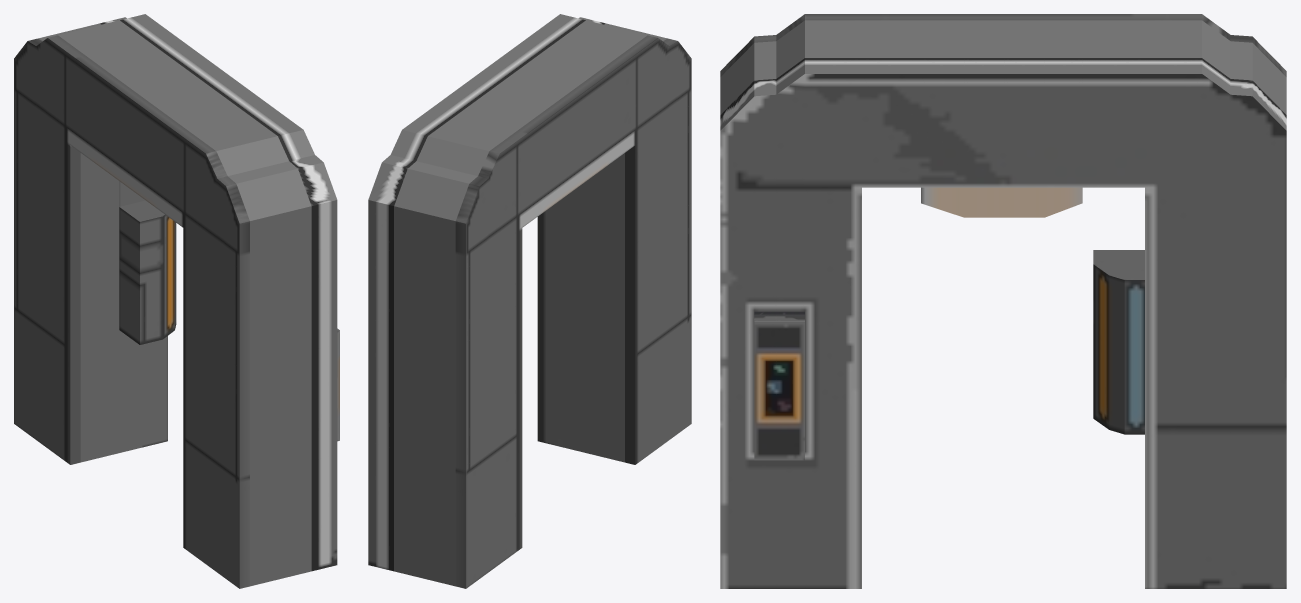
Rendered from Doors_Short_Textured2.fbx.
3 views of the same model, side by side, from view 1: azimuth 30°, elevation 25°; view 2: azimuth 150°, elevation 25°; view 3: azimuth 270°, elevation 25° (orthographic). The views are drawn at different scales.
Visible parts, largest first — view 1: Door_Pillar1; view 2: Door_Pillar1; view 3: Door_Pillar1.
Boxes of the visible parts, <box> form: Door_Pillar1: <box>14,14,339,588</box>; Door_Pillar1: <box>368,14,691,588</box>; Door_Pillar1: <box>720,14,1286,588</box>.
Bounding box in the file's own units: 1.17 × 4.01 × 4.
Materials: 1 (1 with a texture image).
